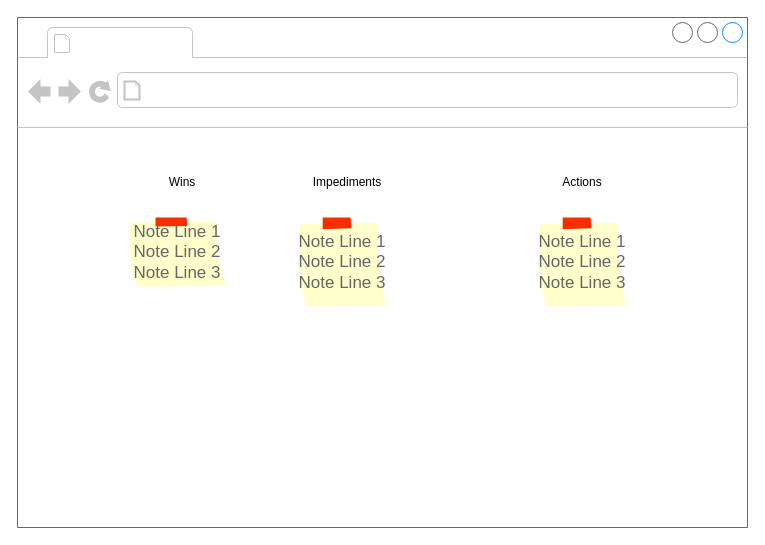
Image size: 765x545. Some labels were removed from this diagram. Here are the shapes that lost their labels. From the top down, the centre of each, then its label:
At point (147, 42): "Retro - Confetti".
At point (272, 90): "https://www.confetti.io".
